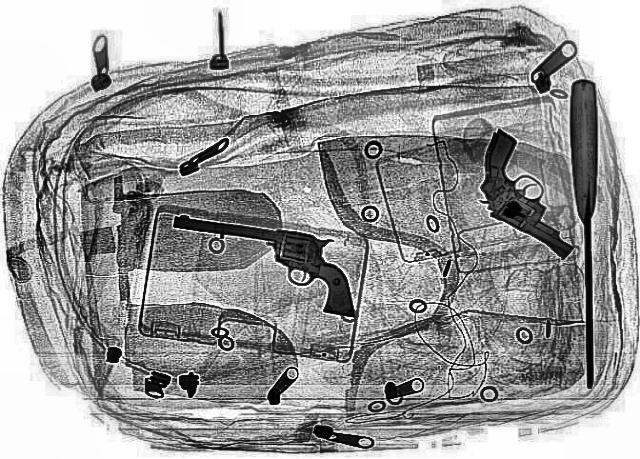Gun: (426, 128, 632, 260), (150, 212, 378, 316)
Knife: (566, 79, 610, 388)
